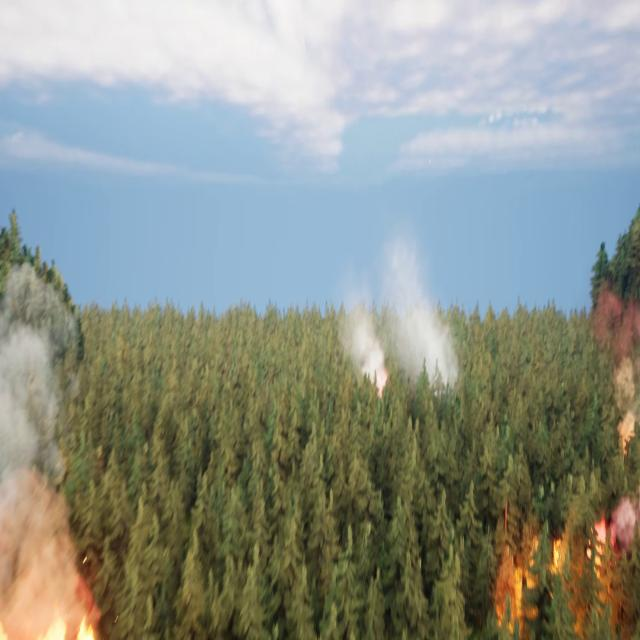fire: (499, 512, 608, 620), (42, 587, 104, 639)
smoke: (0, 281, 86, 639), (334, 226, 461, 416), (588, 280, 640, 459)
